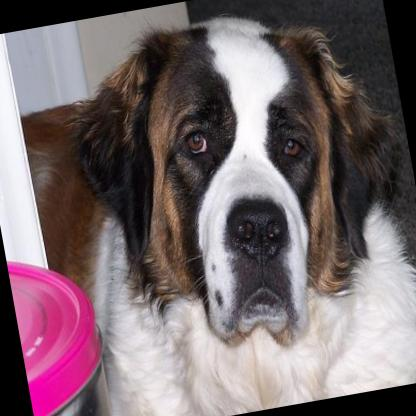Saint_Bernard: (38, 0, 416, 416)
